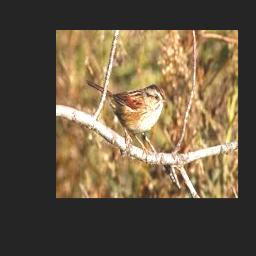Sparrow: (87, 81, 168, 161)
